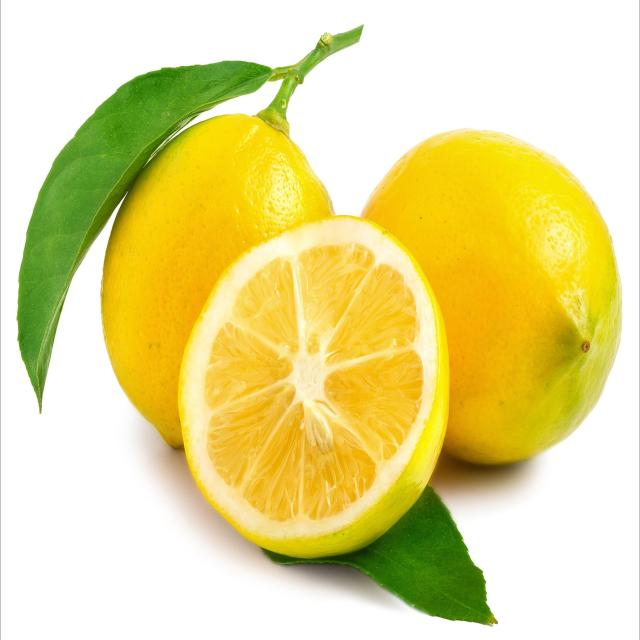lemon: (173, 208, 458, 567)
